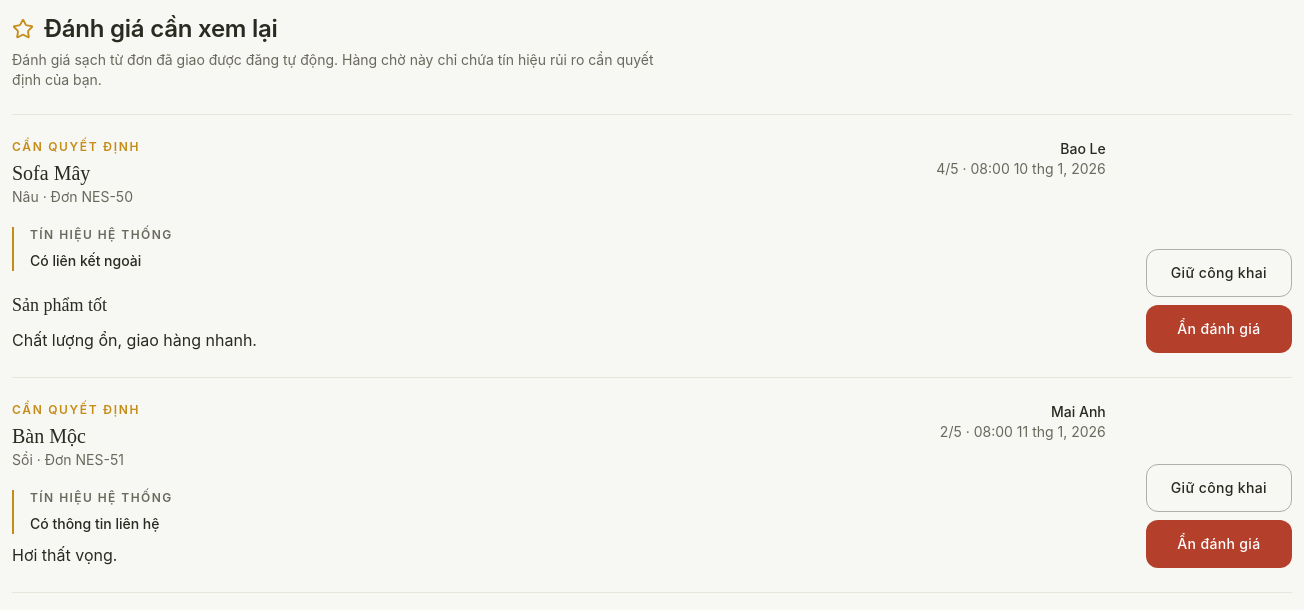
Test: AdminReviewsPage › rejects a review and removes it from the queue
The width and height of the screenshot is (1304, 610).
Expected: the text "Mai Anh" is shown, [1051, 403, 1106, 420]
Click the button "Ẩn đánh giá" below "Mai Anh" at x=1219, y=544, box [1146, 520, 1292, 568]
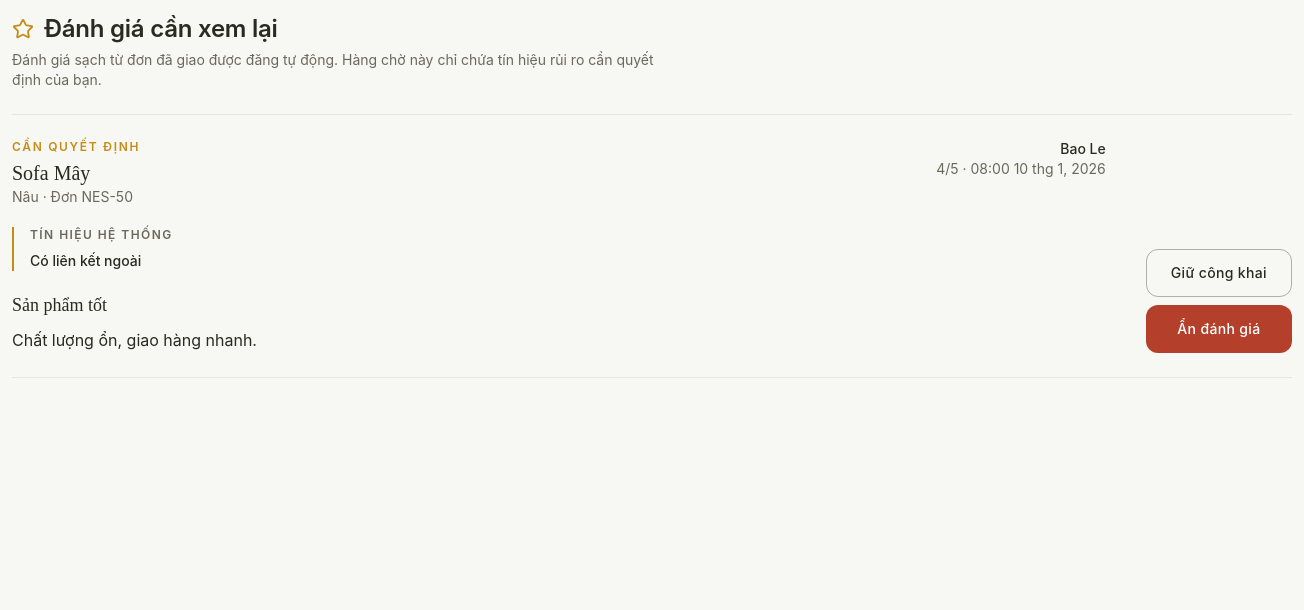
Expected: the text "Bao Le" is shown, [1060, 140, 1106, 157]
Result: the text "Mai Anh" is gone
